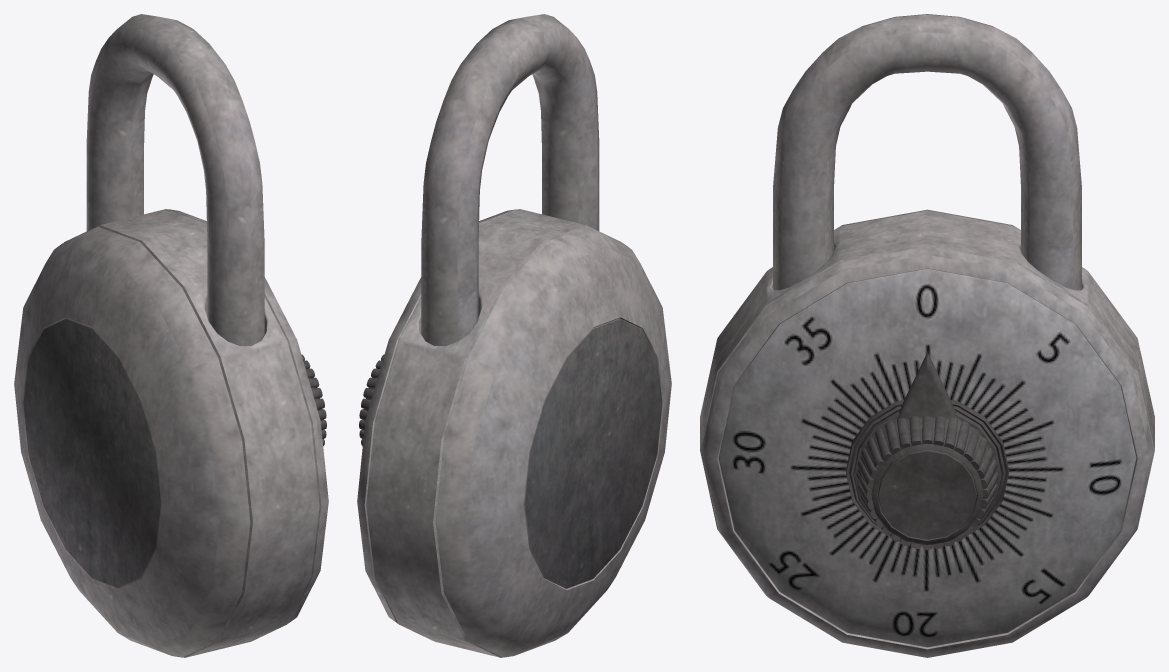
File: lock.glb
The picture shows the model from 3 angles, left to right: view 1: azimuth 30°, elevation 25°; view 2: azimuth 150°, elevation 25°; view 3: azimuth 270°, elevation 25°; orthographic projection. The views are drawn at different scales.
Parts seen in each view (by area): view 1: Object_2; view 2: Object_2; view 3: Object_2.
Boxes of the visible parts, left/top/right/bottom form: Object_2: left=14, top=14, right=328, bottom=657; Object_2: left=357, top=14, right=671, bottom=657; Object_2: left=700, top=14, right=1154, bottom=657.
Size of the model in its own units: 1.08 by 3.03 by 2.
1 material, 1 textured.
